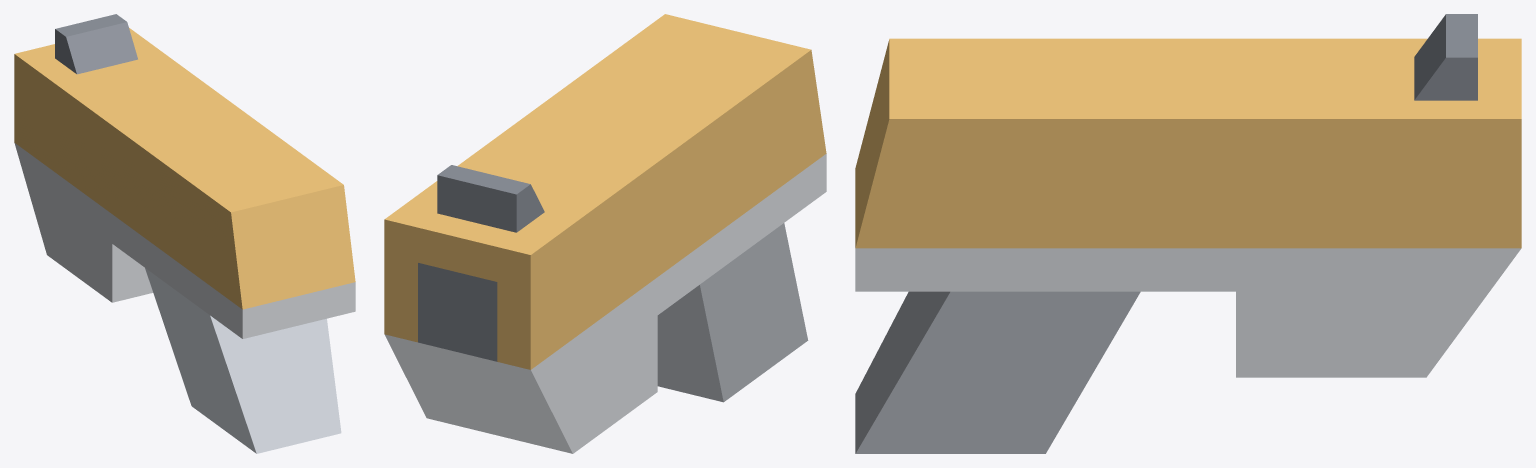
Rendered from weapon_gun.glb.
3 views of the same model, side by side, from view 1: azimuth 30°, elevation 25°; view 2: azimuth 150°, elevation 25°; view 3: azimuth 270°, elevation 25° (orthographic). The views are drawn at different scales.
Visible parts, largest first — view 1: weapon_gun; view 2: weapon_gun; view 3: weapon_gun.
Part boxes in pixels (x1=…): weapon_gun: x1=14, y1=14, x2=355, y2=453; weapon_gun: x1=384, y1=14, x2=826, y2=453; weapon_gun: x1=855, y1=14, x2=1521, y2=453.
Size of the model in its own units: 0.1 by 0.225 by 0.35.
